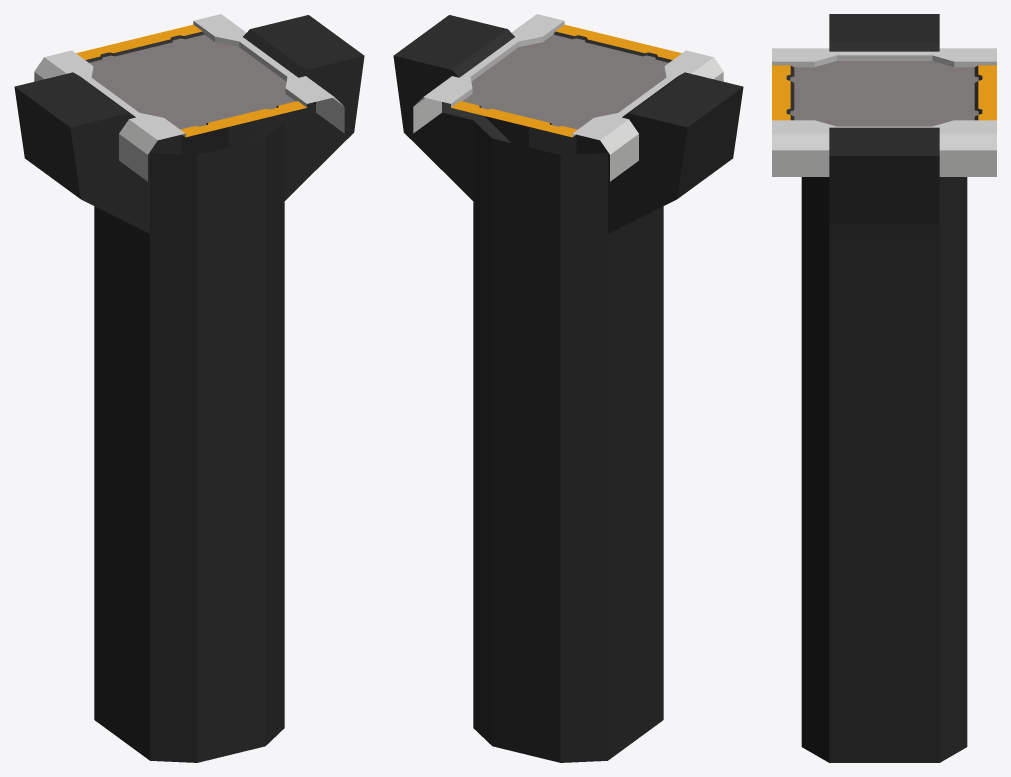
Rendered from road_type_02.fbx.
3 views of the same model, side by side, from view 1: azimuth 30°, elevation 25°; view 2: azimuth 150°, elevation 25°; view 3: azimuth 270°, elevation 25° (orthographic).
Parts seen in each view (by area): view 1: road_type_02; view 2: road_type_02; view 3: road_type_02.
Boxes of the visible parts, x1,y1,x2,y2 form: road_type_02: [14, 14, 364, 762]; road_type_02: [393, 14, 743, 762]; road_type_02: [772, 14, 996, 762].
Bounding box in the file's own units: 499 × 1057 × 334.
1 material, 1 textured.
